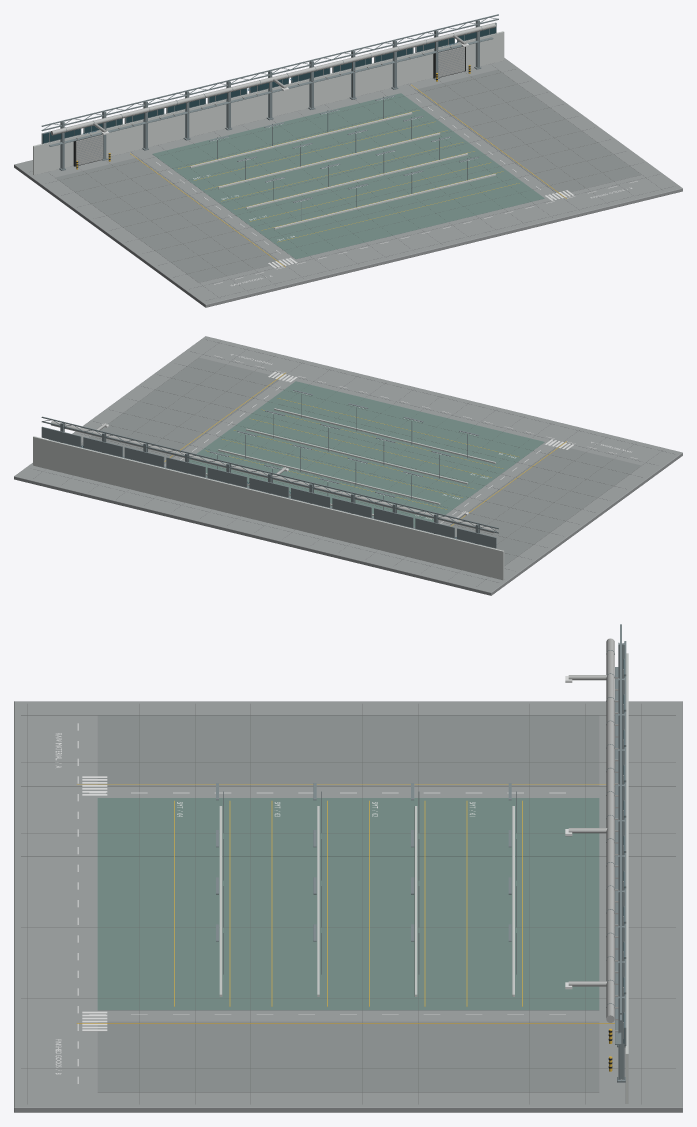
File: kit-hall-4.glb
3 renders of one model, top to bottom at view 1: azimuth 30°, elevation 25°; view 2: azimuth 150°, elevation 25°; view 3: azimuth 270°, elevation 25°, orthographic. The views are drawn at different scales.
Visible parts, largest first — view 1: Foundation; view 2: Foundation; view 3: Foundation.
Boxes of the visible parts, left/top/right/bottom form: Foundation: left=14, top=14, right=682, bottom=307; Foundation: left=14, top=336, right=682, bottom=595; Foundation: left=14, top=624, right=682, bottom=1112.
Size of the model in its own units: 69 by 7.23 by 48.
2 materials, 2 textured.
